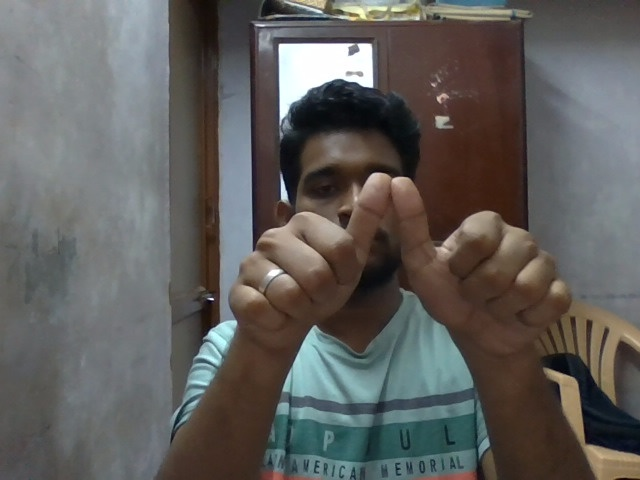A: (224, 167, 578, 368)
